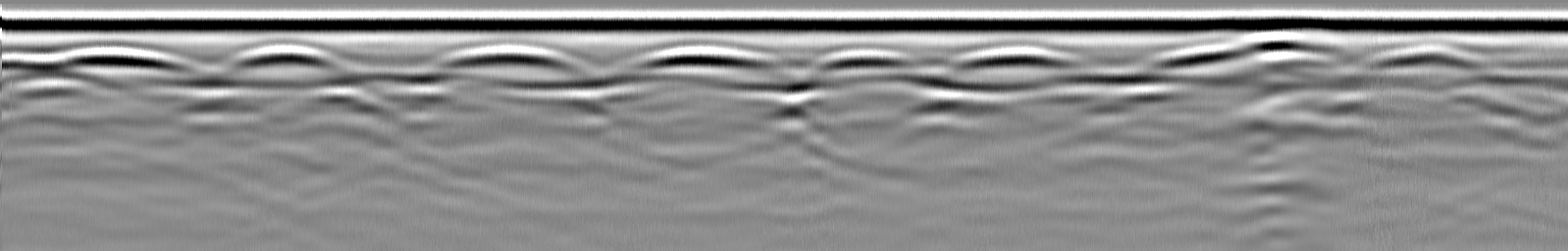steel: (438, 40, 598, 83), (42, 37, 187, 84), (629, 38, 775, 82), (1169, 40, 1361, 71), (222, 36, 348, 80), (955, 42, 1082, 80), (808, 40, 919, 81), (1361, 41, 1497, 73)
